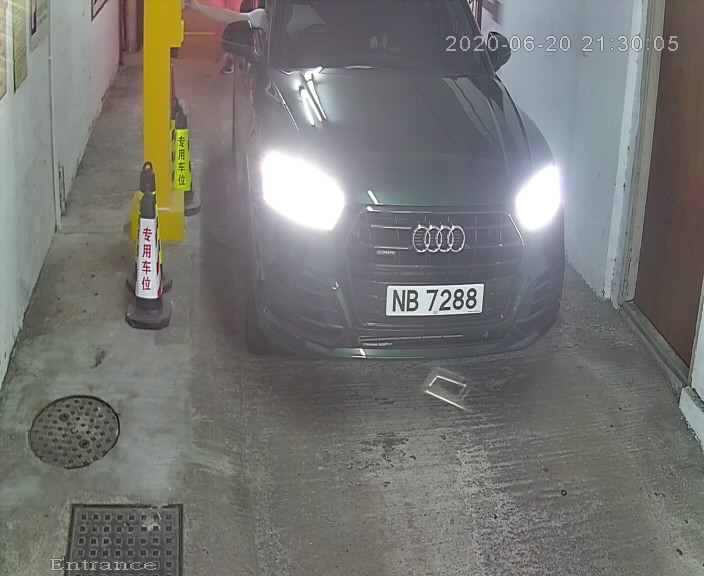privatecar: (206, 2, 591, 427)
